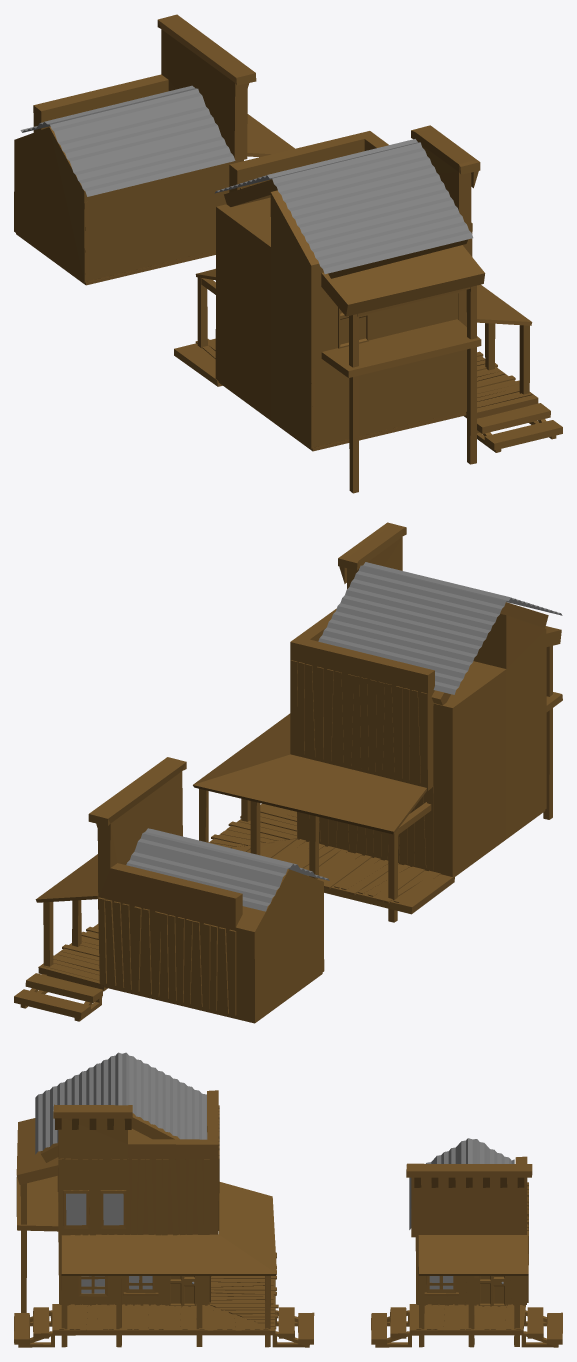
Rendered from case 1.fbx.
3 renders of one model, top to bottom at view 1: azimuth 30°, elevation 25°; view 2: azimuth 150°, elevation 25°; view 3: azimuth 270°, elevation 25°, orthographic. The views are drawn at different scales.
Parts seen in each view (by area): view 1: estermo, estermo 2, interno, interno 2; view 2: estermo, estermo 2, interno, interno 2; view 3: estermo, estermo 2, interno, interno 2, estermo.001, estermo 2.001.
Part boxes in pixels (left/top/right/bottom): estermo: left=195, top=125, right=532, bottom=493; estermo 2: left=14, top=14, right=294, bottom=282; interno: left=174, top=338, right=562, bottom=452; interno 2: left=16, top=201, right=215, bottom=285; estermo: left=193, top=522, right=562, bottom=922; estermo 2: left=35, top=757, right=329, bottom=1022; interno: left=208, top=803, right=545, bottom=914; interno 2: left=14, top=924, right=322, bottom=1023; estermo: left=16, top=1052, right=276, bottom=1347; estermo 2: left=406, top=1138, right=532, bottom=1347; interno: left=14, top=1252, right=314, bottom=1347; interno 2: left=371, top=1276, right=562, bottom=1347; estermo.001: left=58, top=1237, right=211, bottom=1306; estermo 2.001: left=415, top=1237, right=526, bottom=1306.
Size of the model in its own units: 290 by 341 by 769.
